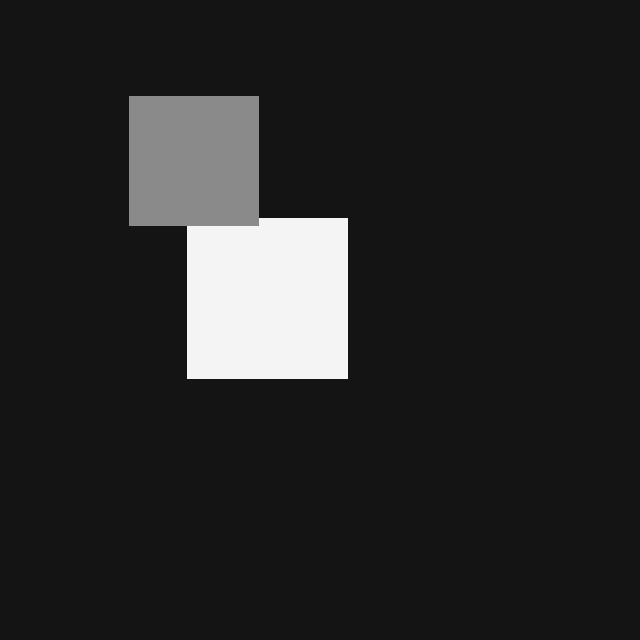square: (187, 218, 347, 378), (129, 96, 258, 225)
